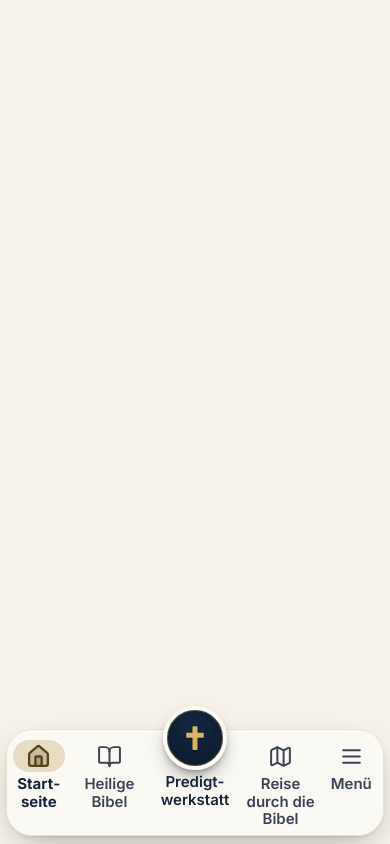
Scenario: Menu do celular em cartõezinhos › rótulos nos 7 idiomas (chaves já existentes)
Click the button "Menü".
click(351, 783)  # box left=322, top=736, right=381, bottom=829
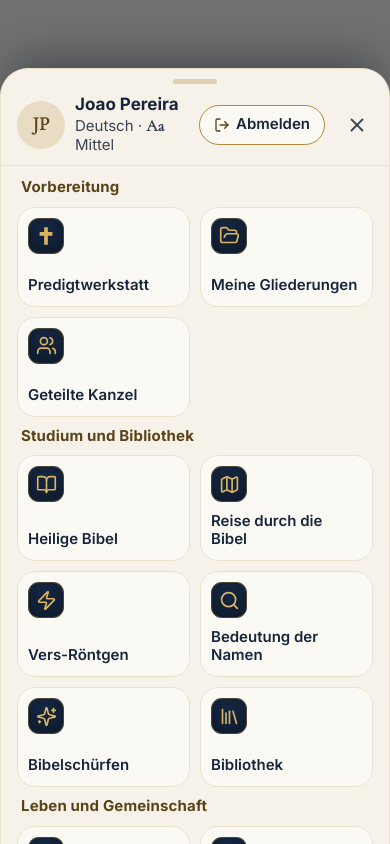
Result: the link "Predigtwerkstatt" is shown at left=17, top=206, right=190, bottom=306
Result: the element "Vorbereitung" is shown at left=17, top=176, right=373, bottom=416
